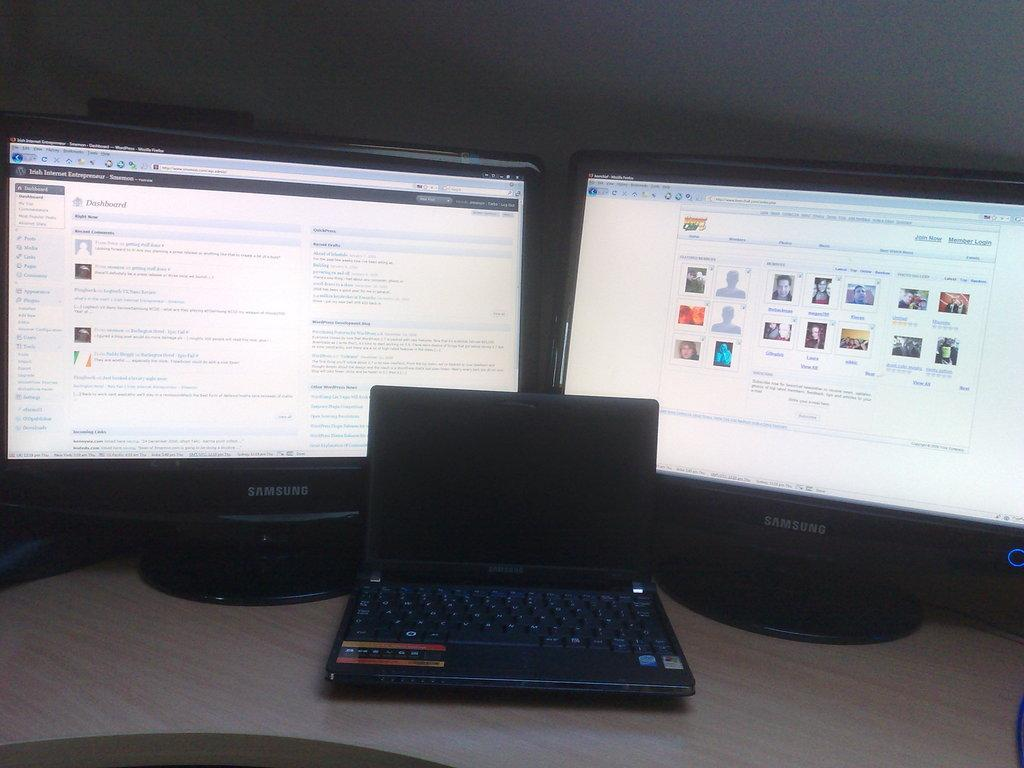Computer-keyboard: (350, 579, 677, 660)
Computer-monitor: (0, 117, 543, 605), (554, 141, 1023, 669)
Laptop: (330, 366, 682, 733)
